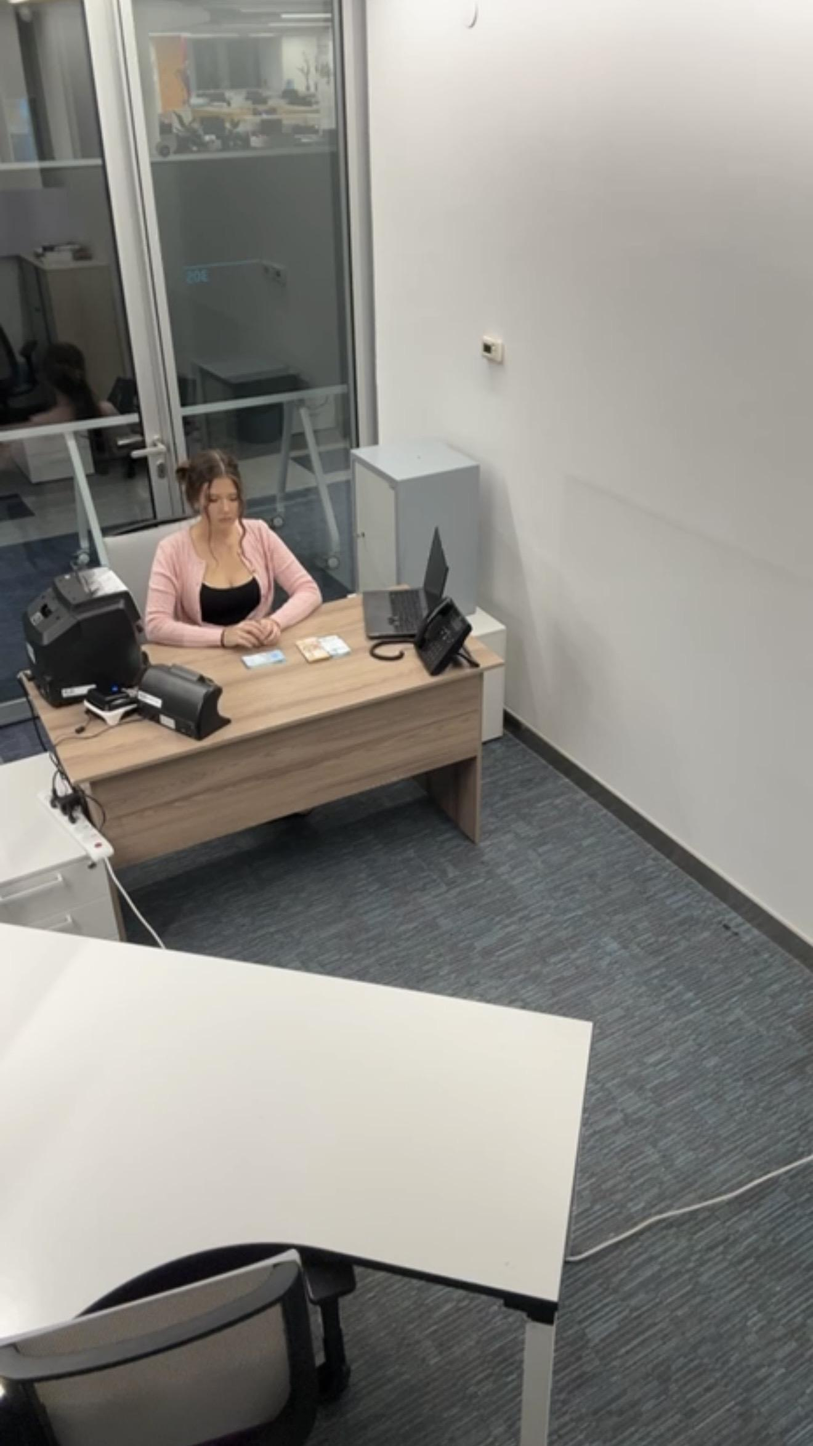cash_stack: (296, 628, 351, 665), (236, 647, 294, 678)
counter: (10, 561, 150, 702)
key_in: (347, 520, 380, 552)
uv_lamp: (133, 653, 236, 745)
